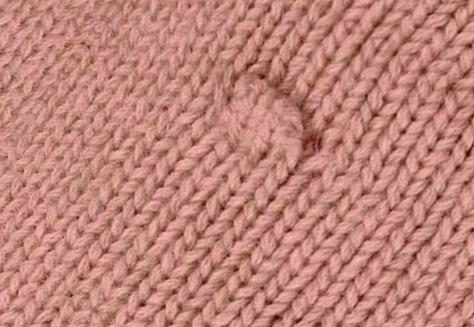knot: (219, 70, 316, 166)
